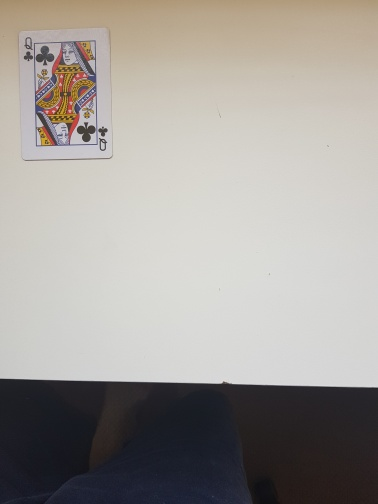queen: (17, 27, 114, 163)
